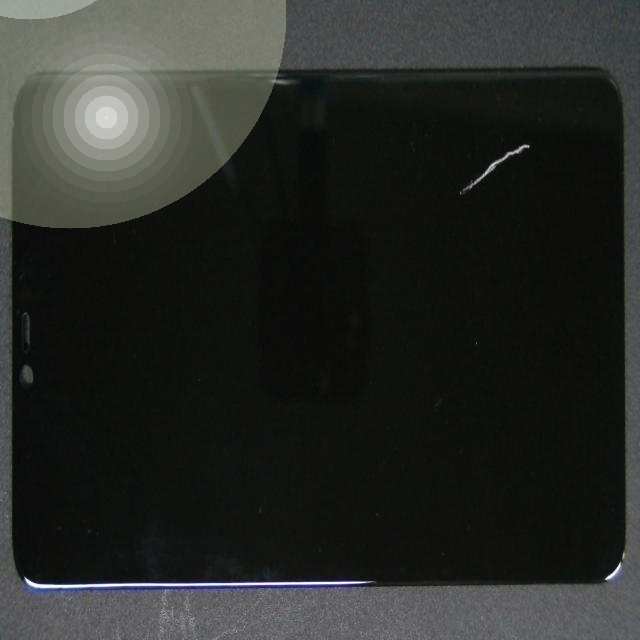scratch: (222, 66, 640, 281)
